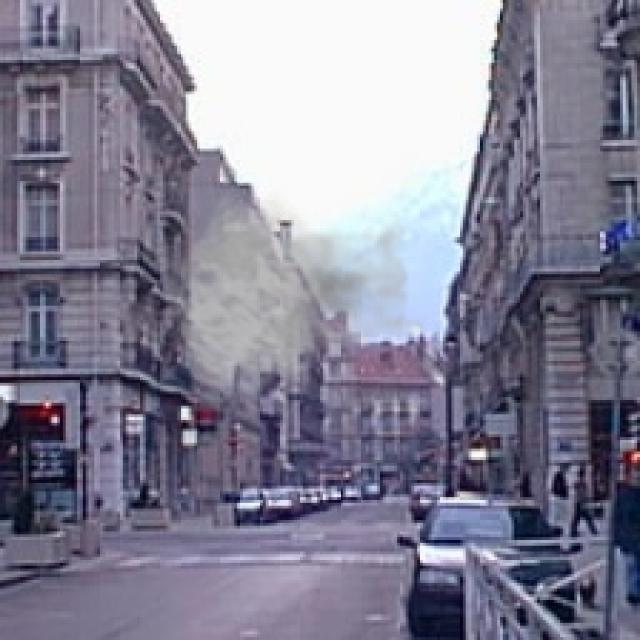Smoke: (162, 183, 428, 406)
